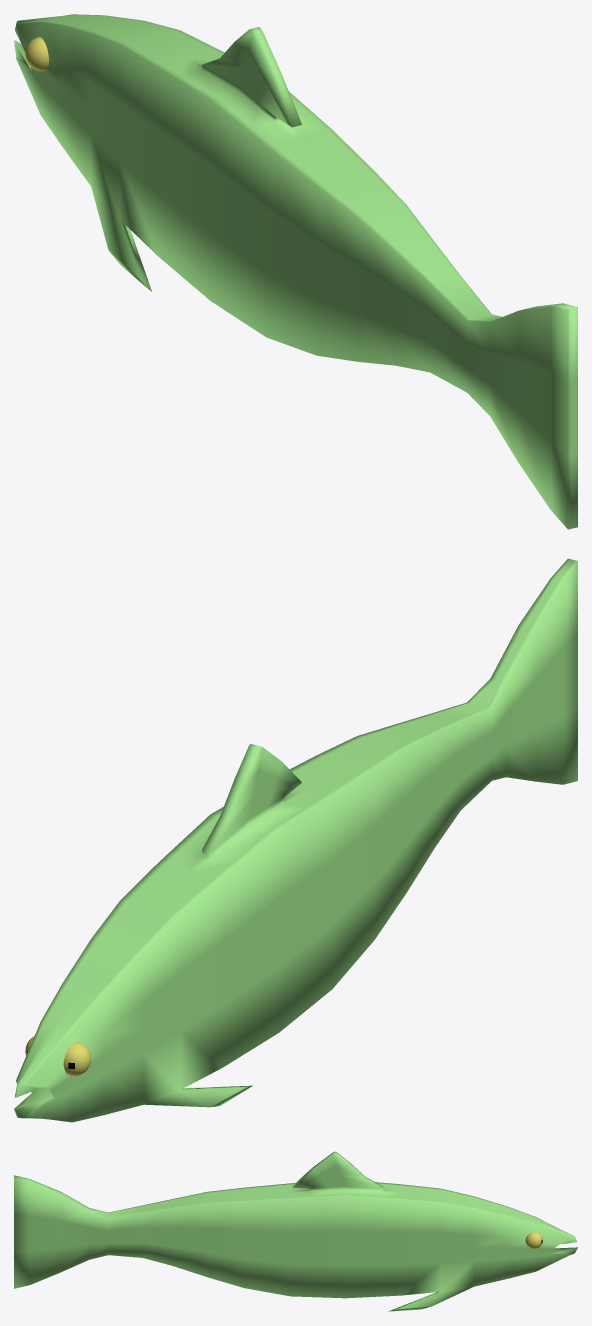
The model's file is FishAI.fbx.
The picture shows the model from 3 angles, top to bottom: view 1: azimuth 30°, elevation 25°; view 2: azimuth 150°, elevation 25°; view 3: azimuth 270°, elevation 25°; orthographic projection. The views are drawn at different scales.
Visible parts, largest first — view 1: NewFish; view 2: NewFish; view 3: NewFish.
Boxes of the visible parts, x1,y1,x2,y2 form: NewFish: [14, 14, 577, 529]; NewFish: [14, 558, 577, 1122]; NewFish: [14, 1151, 577, 1311].
Bounding box in the file's own units: 53.54 × 143 × 498.
